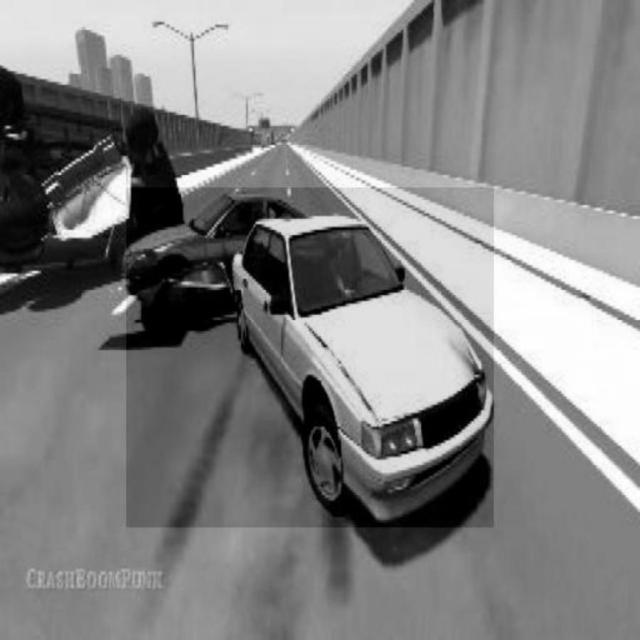accident: (127, 188, 494, 528)
